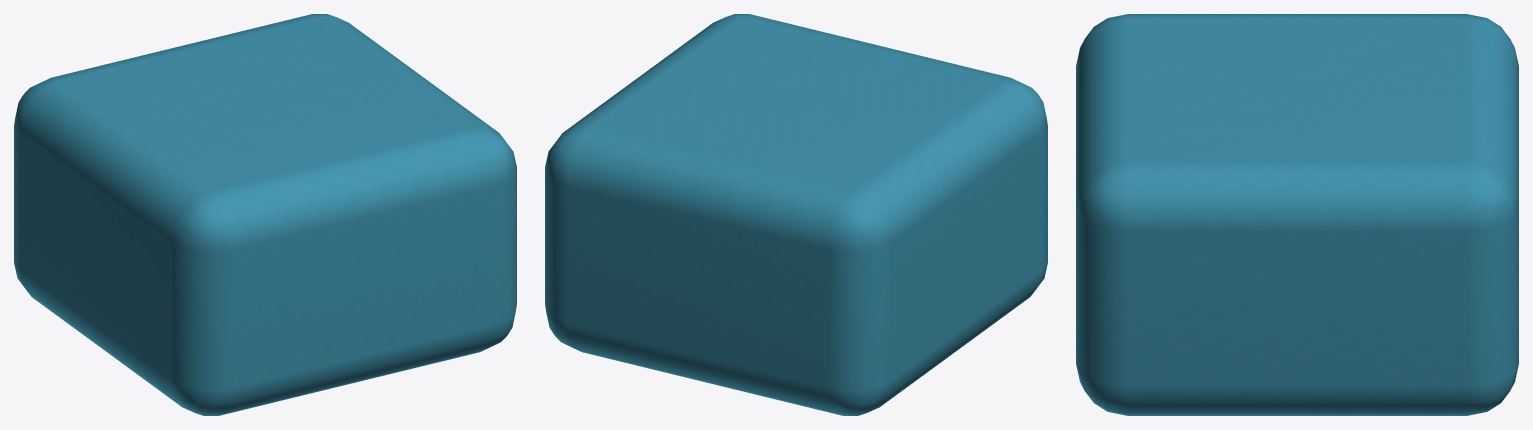
Rendered from count_token_teal.glb.
The picture shows the model from 3 angles, left to right: view 1: azimuth 30°, elevation 25°; view 2: azimuth 150°, elevation 25°; view 3: azimuth 270°, elevation 25°; orthographic projection. The views are drawn at different scales.
Visible parts, largest first — view 1: SingleCountableBody; view 2: SingleCountableBody; view 3: SingleCountableBody.
Part boxes in pixels (x1=…): SingleCountableBody: x1=14, y1=14, x2=516, y2=415; SingleCountableBody: x1=545, y1=14, x2=1047, y2=415; SingleCountableBody: x1=1076, y1=14, x2=1518, y2=415.
Bounding box in the file's own units: 0.58 × 0.36 × 0.58.
Materials: 1 (1 with a texture image).
